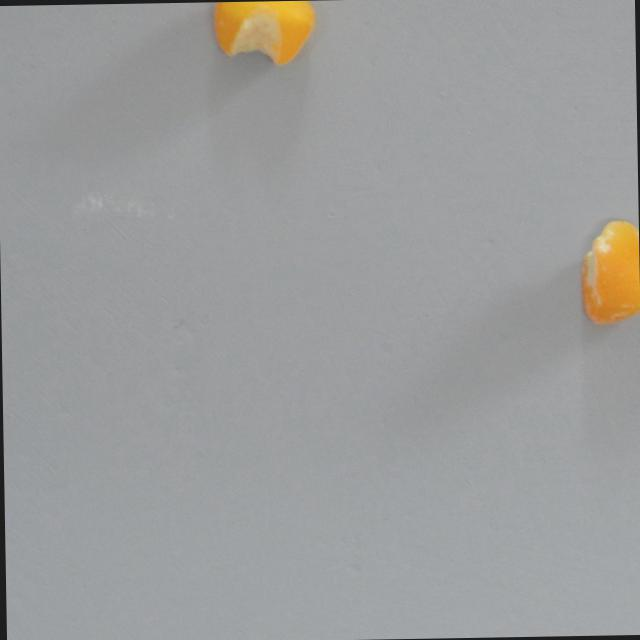no_canjicado: (213, 0, 315, 67)
pelicula: (576, 219, 640, 327)
